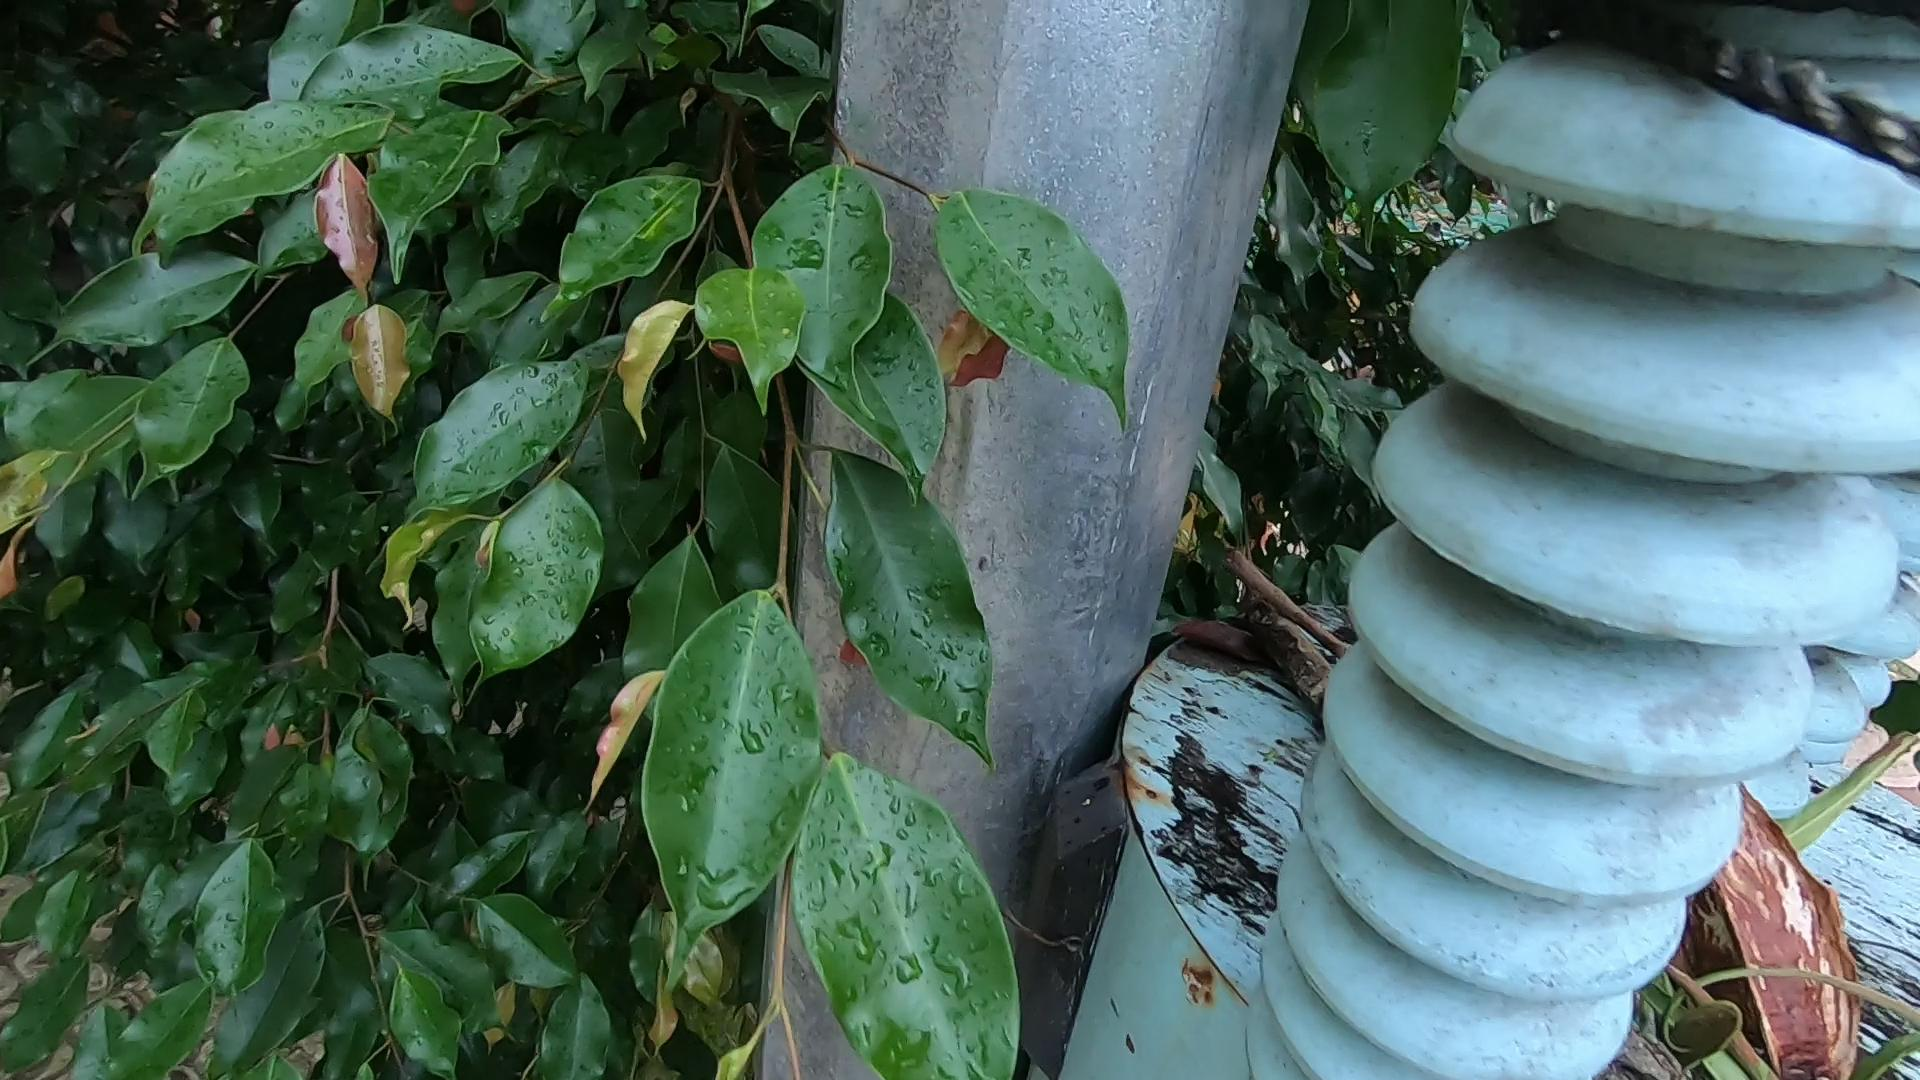branch with leaves: (1220, 617, 1858, 1080)
mahogany fruit: (1693, 746, 1844, 1054)
tree branch: (1203, 549, 1360, 638)
